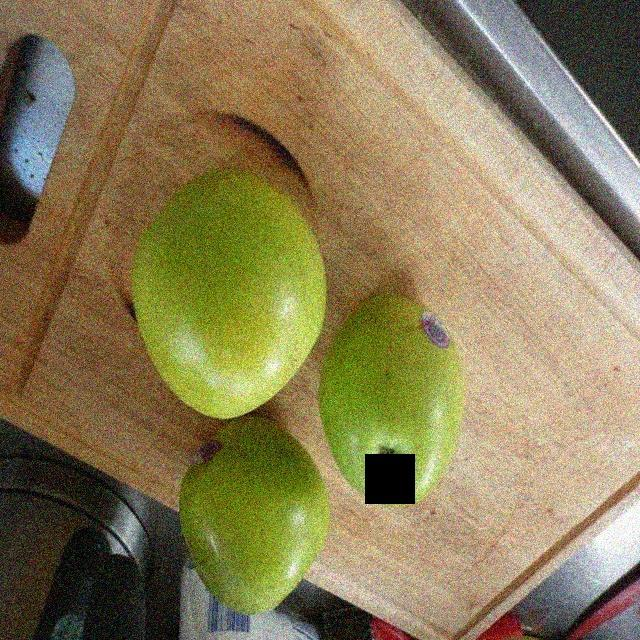green apple: (125, 157, 332, 418), (171, 409, 326, 618), (317, 299, 468, 509)
